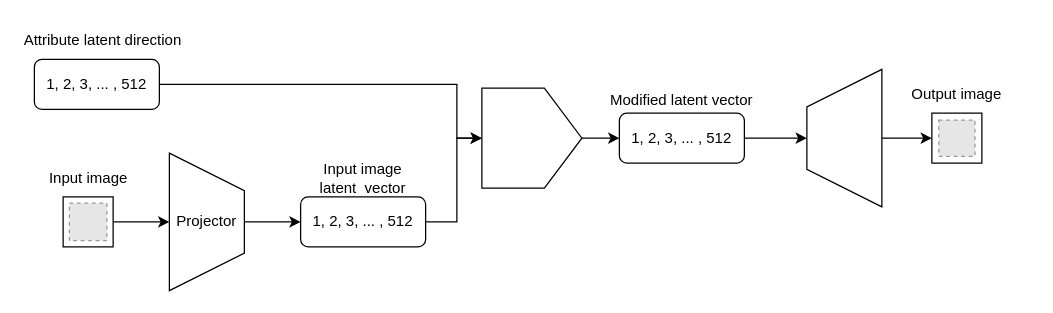
Some shapes in this 1053 by 313 pixel diagram are drawn without their labels. Grey dashed boxes stand in for pictures. The centre of each missing label's shape, as x and y in pixels:
Combination: pixel 531 137
StyleGAN: pixel 844 137
